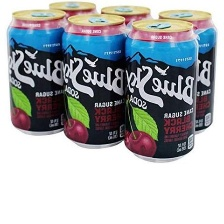can: (123, 16, 200, 162), (59, 12, 128, 144), (155, 6, 218, 134), (7, 8, 67, 136), (98, 5, 152, 24), (44, 0, 97, 15)
